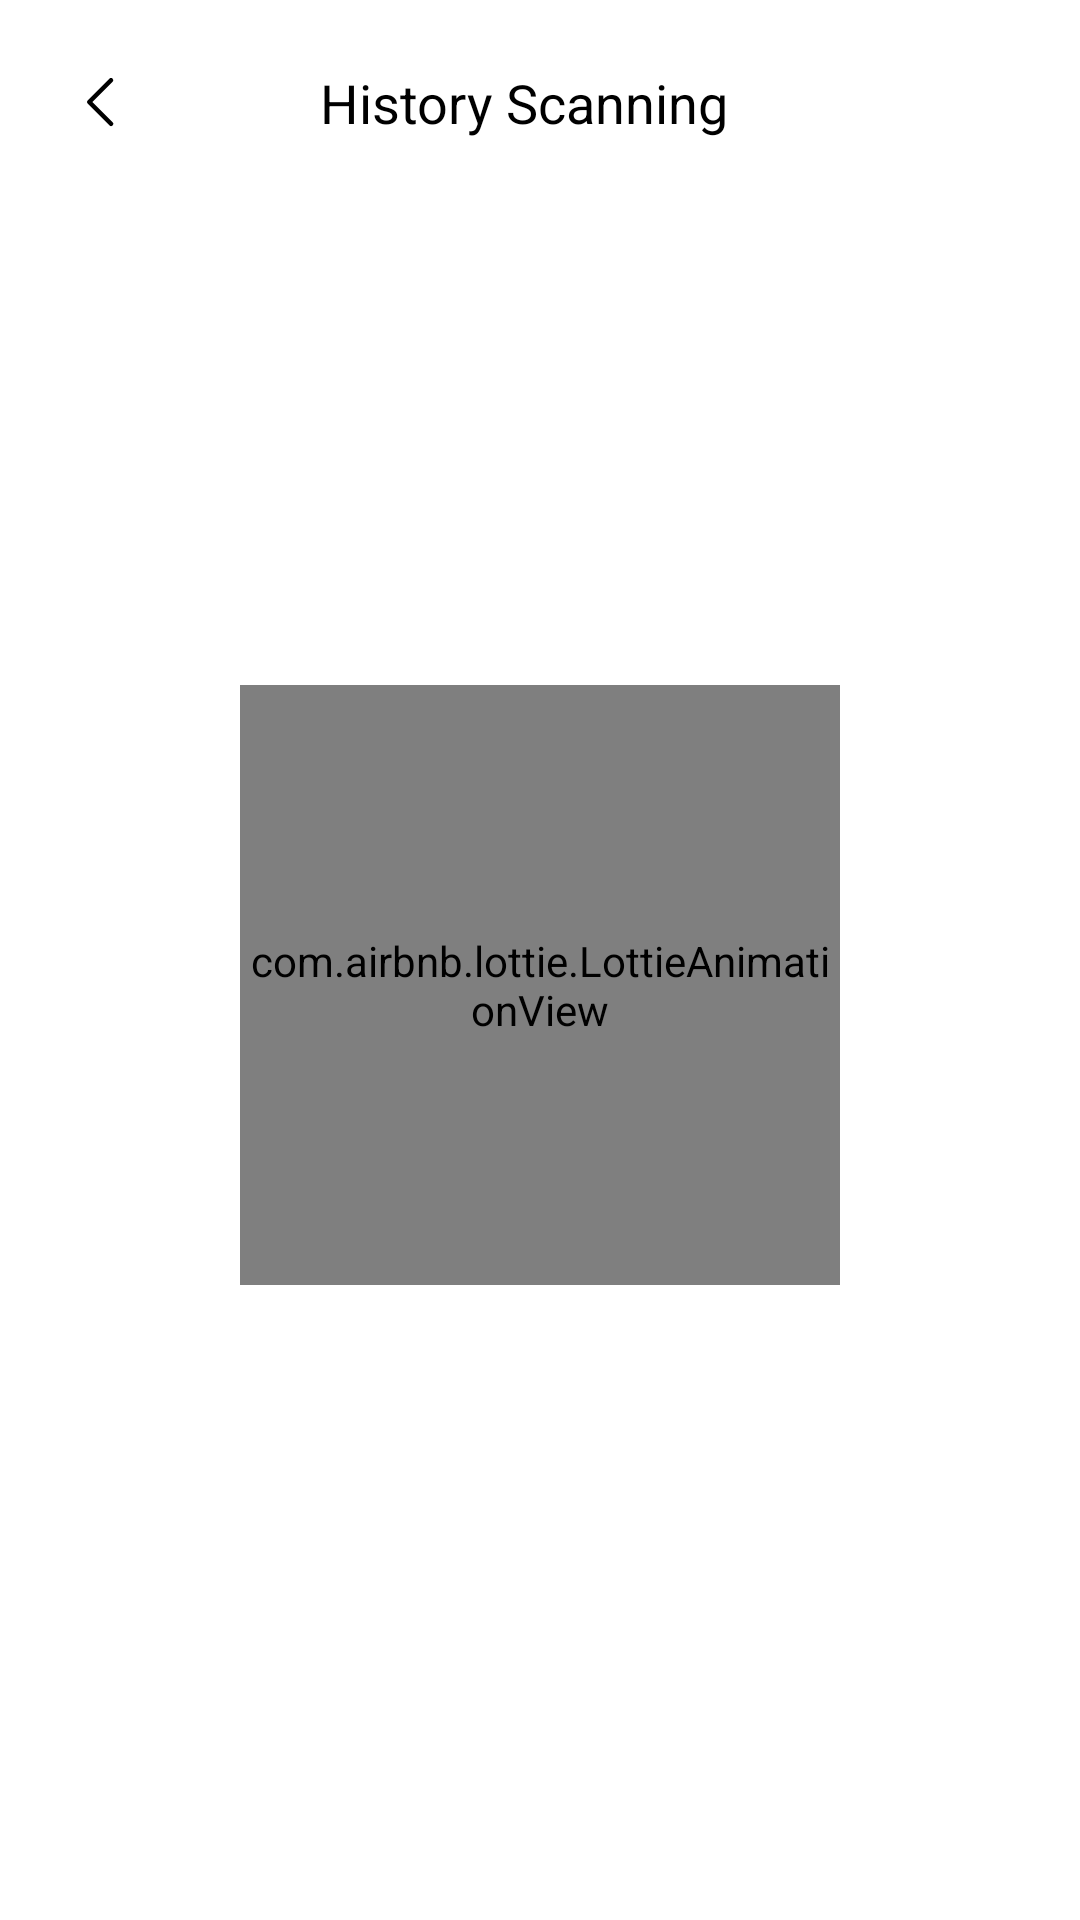

Icon click points for this 1080×1920 phone screenshot, format point (x, y):
Back: point (100, 102)
